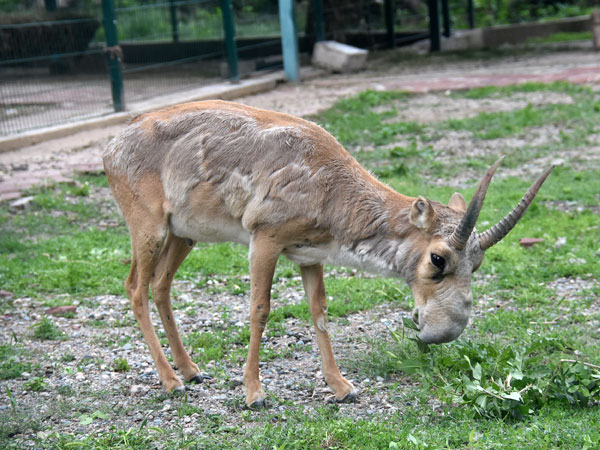saiga: (101, 97, 559, 413)
